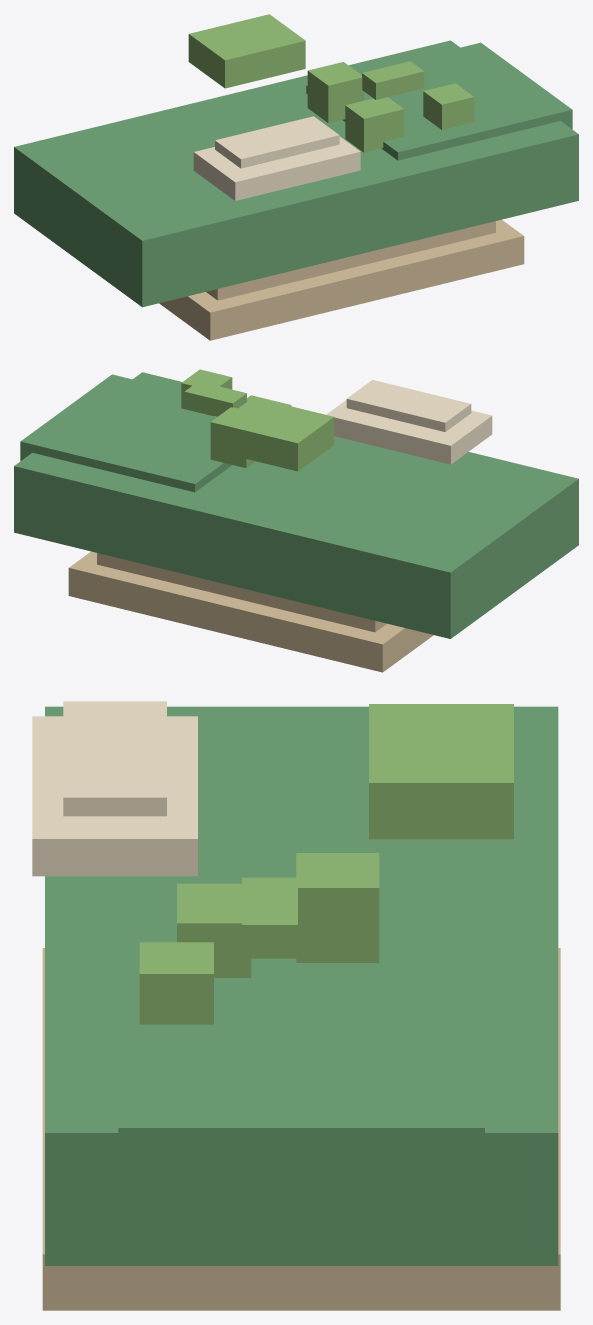
Rendered from product_pickled_fillet.glb.
The picture shows the model from 3 angles, top to bottom: view 1: azimuth 30°, elevation 25°; view 2: azimuth 150°, elevation 25°; view 3: azimuth 270°, elevation 25°; orthographic projection. The views are drawn at different scales.
Parts seen in each view (by area): view 1: ProductArt_body, ProductArt_platter, ProductArt_label, ProductArt_accent, ProductArt_garnish; view 2: ProductArt_body, ProductArt_platter, ProductArt_label, ProductArt_accent, ProductArt_garnish; view 3: ProductArt_body, ProductArt_accent, ProductArt_label, ProductArt_platter, ProductArt_garnish.
Boxes of the visible parts, x1,y1,x2,y2 form: ProductArt_body: (14,40,578,307); ProductArt_platter: (159,219,524,340); ProductArt_label: (193,116,360,200); ProductArt_accent: (188,14,364,123); ProductArt_garnish: (345,61,474,152); ProductArt_body: (14,372,578,638); ProductArt_platter: (68,551,433,672); ProductArt_label: (326,380,492,464); ProductArt_accent: (210,397,334,471); ProductArt_garnish: (181,369,291,416); ProductArt_body: (45,706,558,1265); ProductArt_accent: (296,704,513,962); ProductArt_label: (32,701,197,876); ProductArt_platter: (42,948,560,1310); ProductArt_garnish: (139,877,297,1024).
Size of the model in its own units: 0.24 by 0.1008 by 0.1224.
